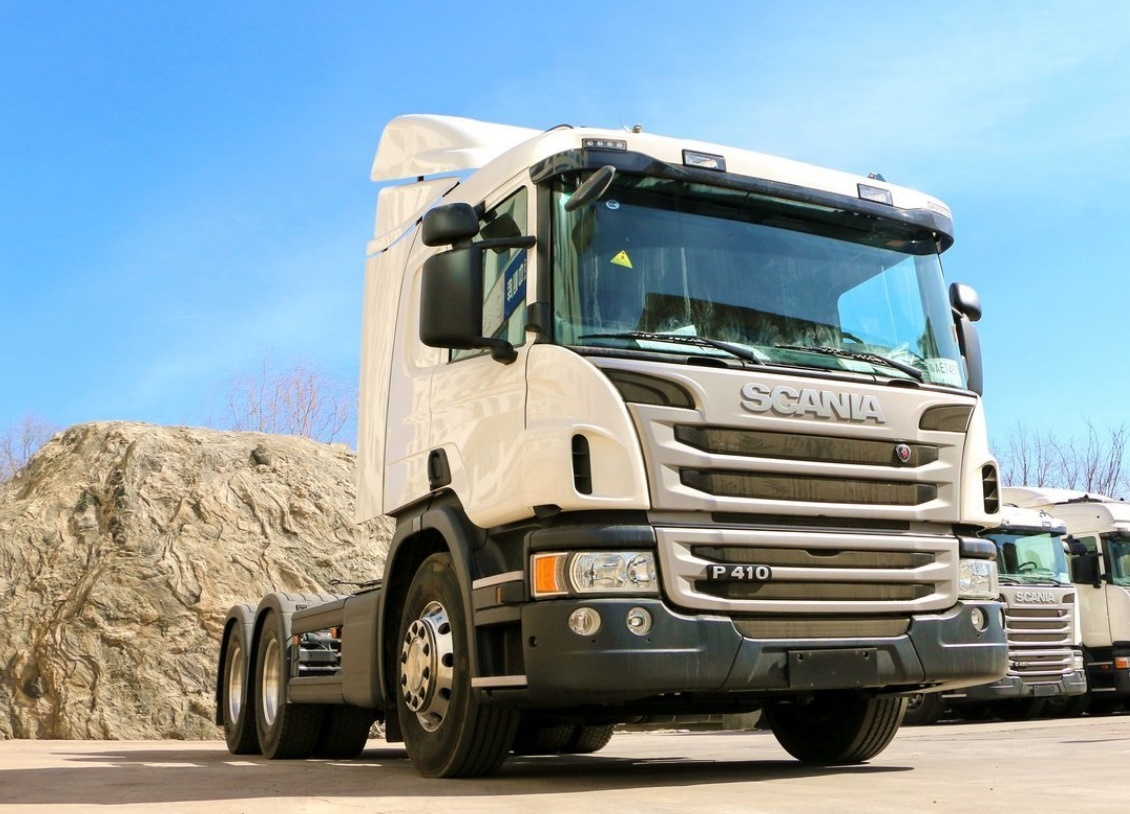heavy truck: (212, 131, 1019, 768)
